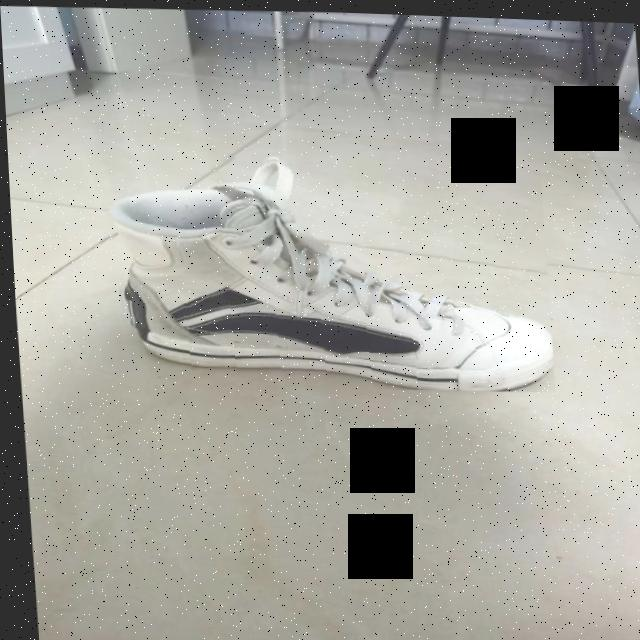shoe: (99, 143, 551, 395)
